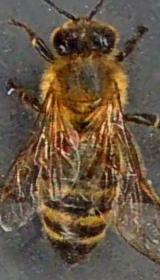varroa_mite: (53, 125, 84, 156)
